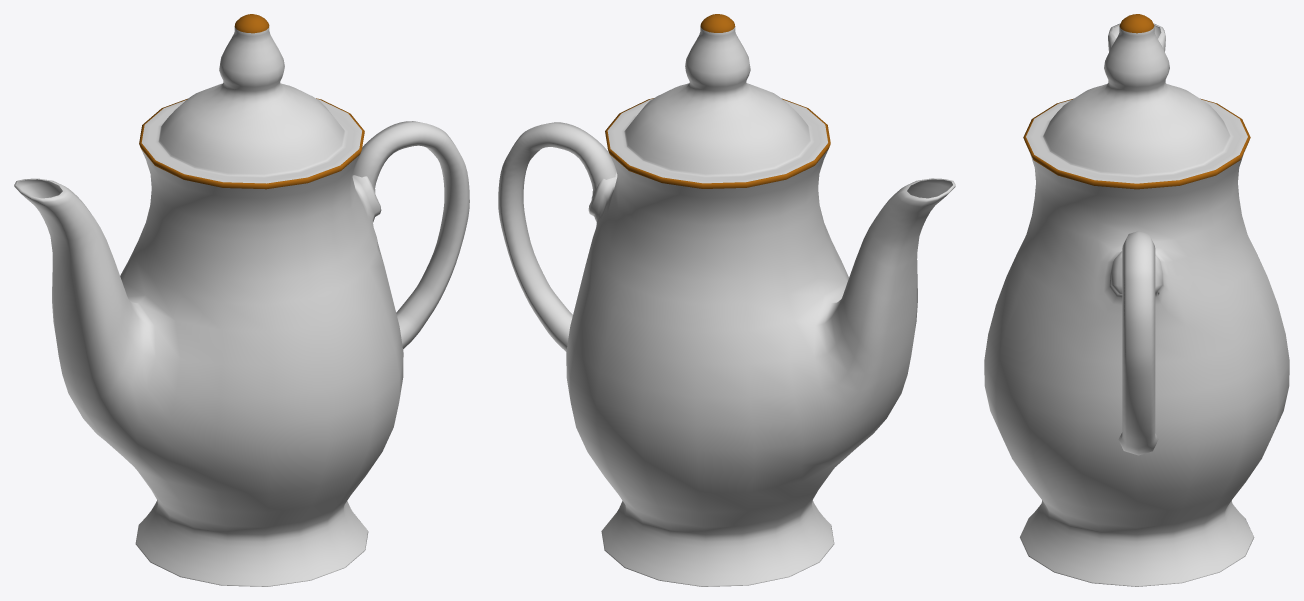
Rendered from teapot.fbx.
The picture shows the model from 3 angles, left to right: view 1: azimuth 30°, elevation 25°; view 2: azimuth 150°, elevation 25°; view 3: azimuth 270°, elevation 25°; orthographic projection.
Parts seen in each view (by area): view 1: Cylinder, Cube; view 2: Cylinder, Cube; view 3: Cylinder, Cube.
Boxes of the visible parts, left/top/right/bottom form: Cylinder: left=14, top=14, right=403, bottom=586; Cube: left=352, top=121, right=469, bottom=349; Cylinder: left=566, top=14, right=955, bottom=586; Cube: left=498, top=122, right=616, bottom=351; Cylinder: left=984, top=14, right=1289, bottom=586; Cube: left=1118, top=231, right=1159, bottom=455.
Bounding box in the file's own units: 308 × 344 × 183.
